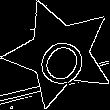O_NE: (27, 21, 92, 87)
